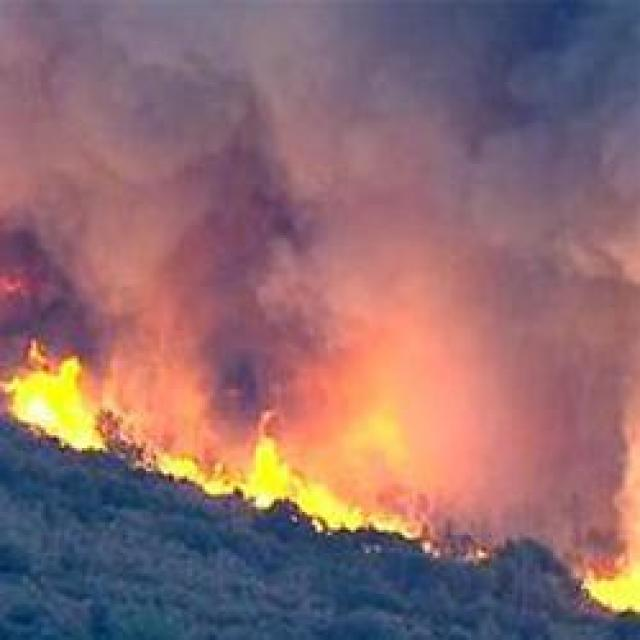fire: (152, 410, 427, 546), (0, 343, 110, 453), (583, 561, 640, 617)
